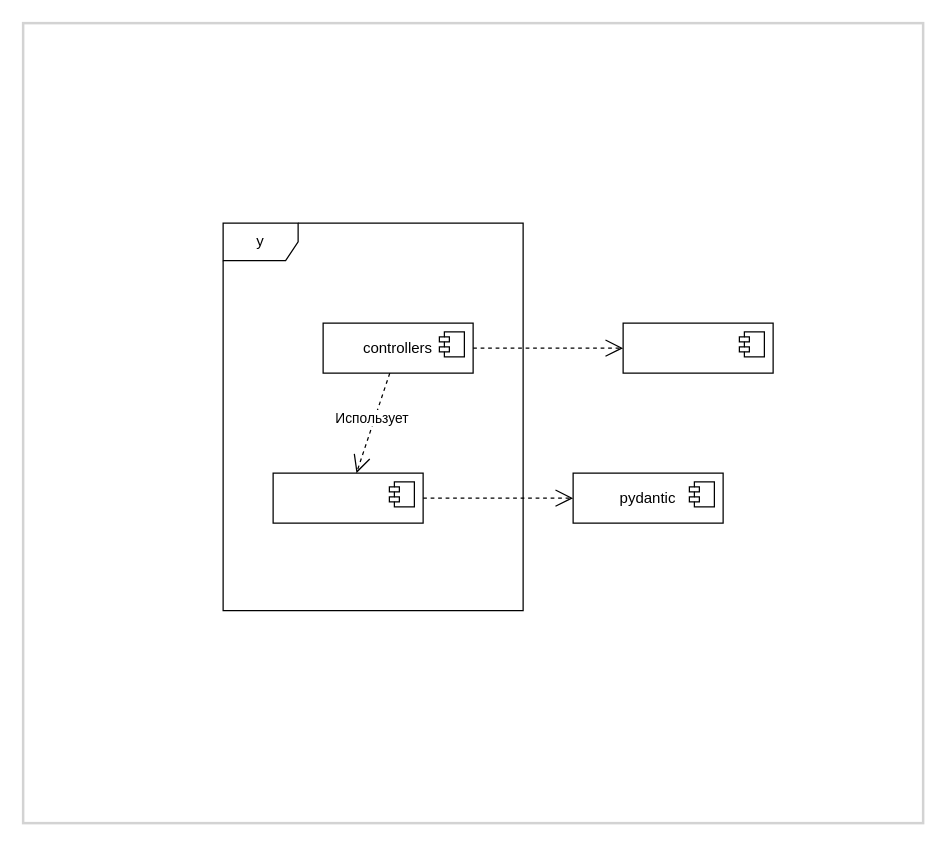
The diagram is 945 pixels wide and 845 high, and some of its shapes have lost their labels. The box of each missing label's shape, as (x1, y1, x2, y2) in pixels:
fastapi: (622, 322, 773, 373)
models: (272, 472, 423, 523)
